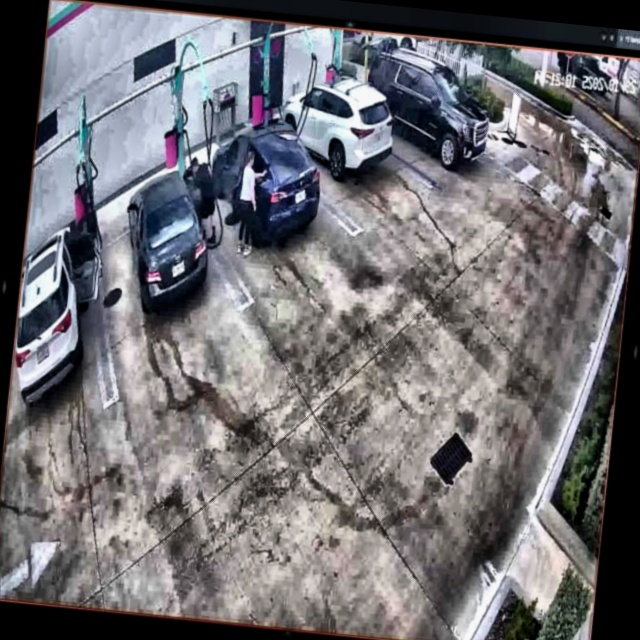Car: (361, 46, 497, 169), (205, 118, 327, 247), (117, 164, 217, 316), (275, 70, 397, 180)
